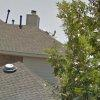Chimney: (21, 8, 45, 31)
